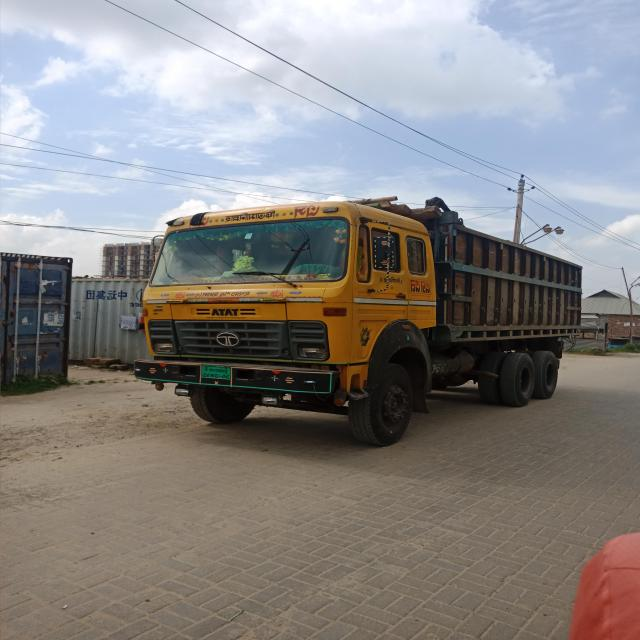truck: (105, 184, 606, 436)
